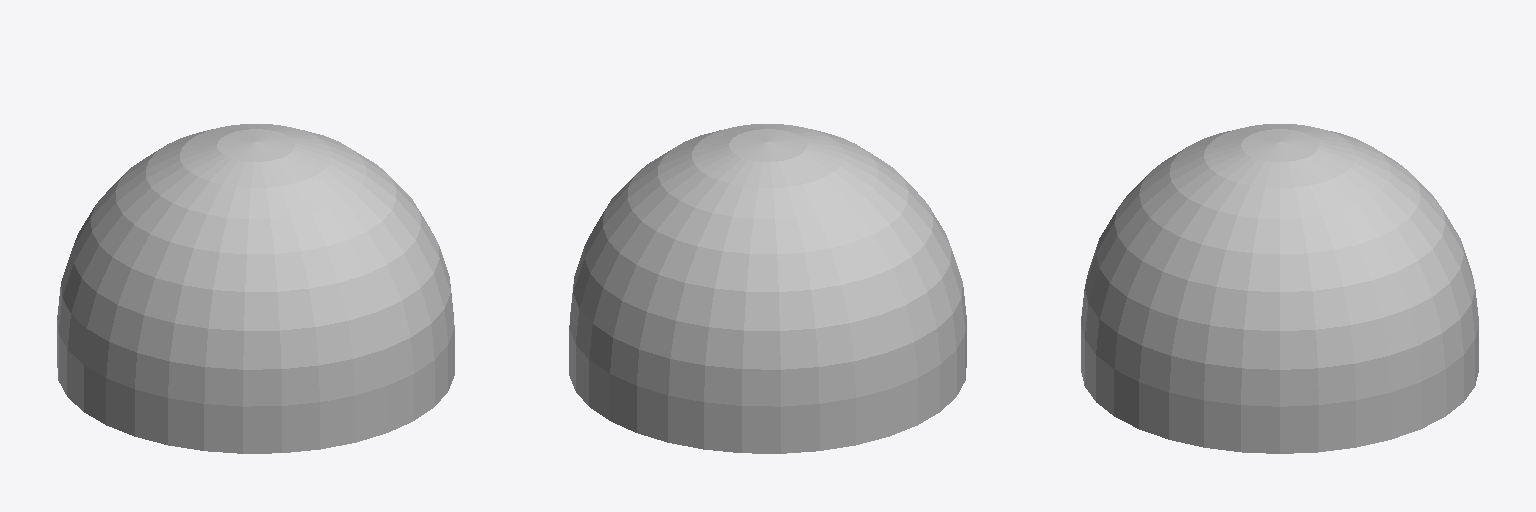
The model's file is skybox.obj.
3 views of the same model, side by side, from view 1: azimuth 30°, elevation 25°; view 2: azimuth 150°, elevation 25°; view 3: azimuth 270°, elevation 25° (orthographic).
Visible parts, largest first — view 1: Sphere; view 2: Sphere; view 3: Sphere.
Boxes of the visible parts, x1=… form: Sphere: x1=57, y1=124, x2=454, y2=453; Sphere: x1=569, y1=124, x2=966, y2=453; Sphere: x1=1081, y1=124, x2=1478, y2=453.
Bounding box in the file's own units: 134 × 84.39 × 134.